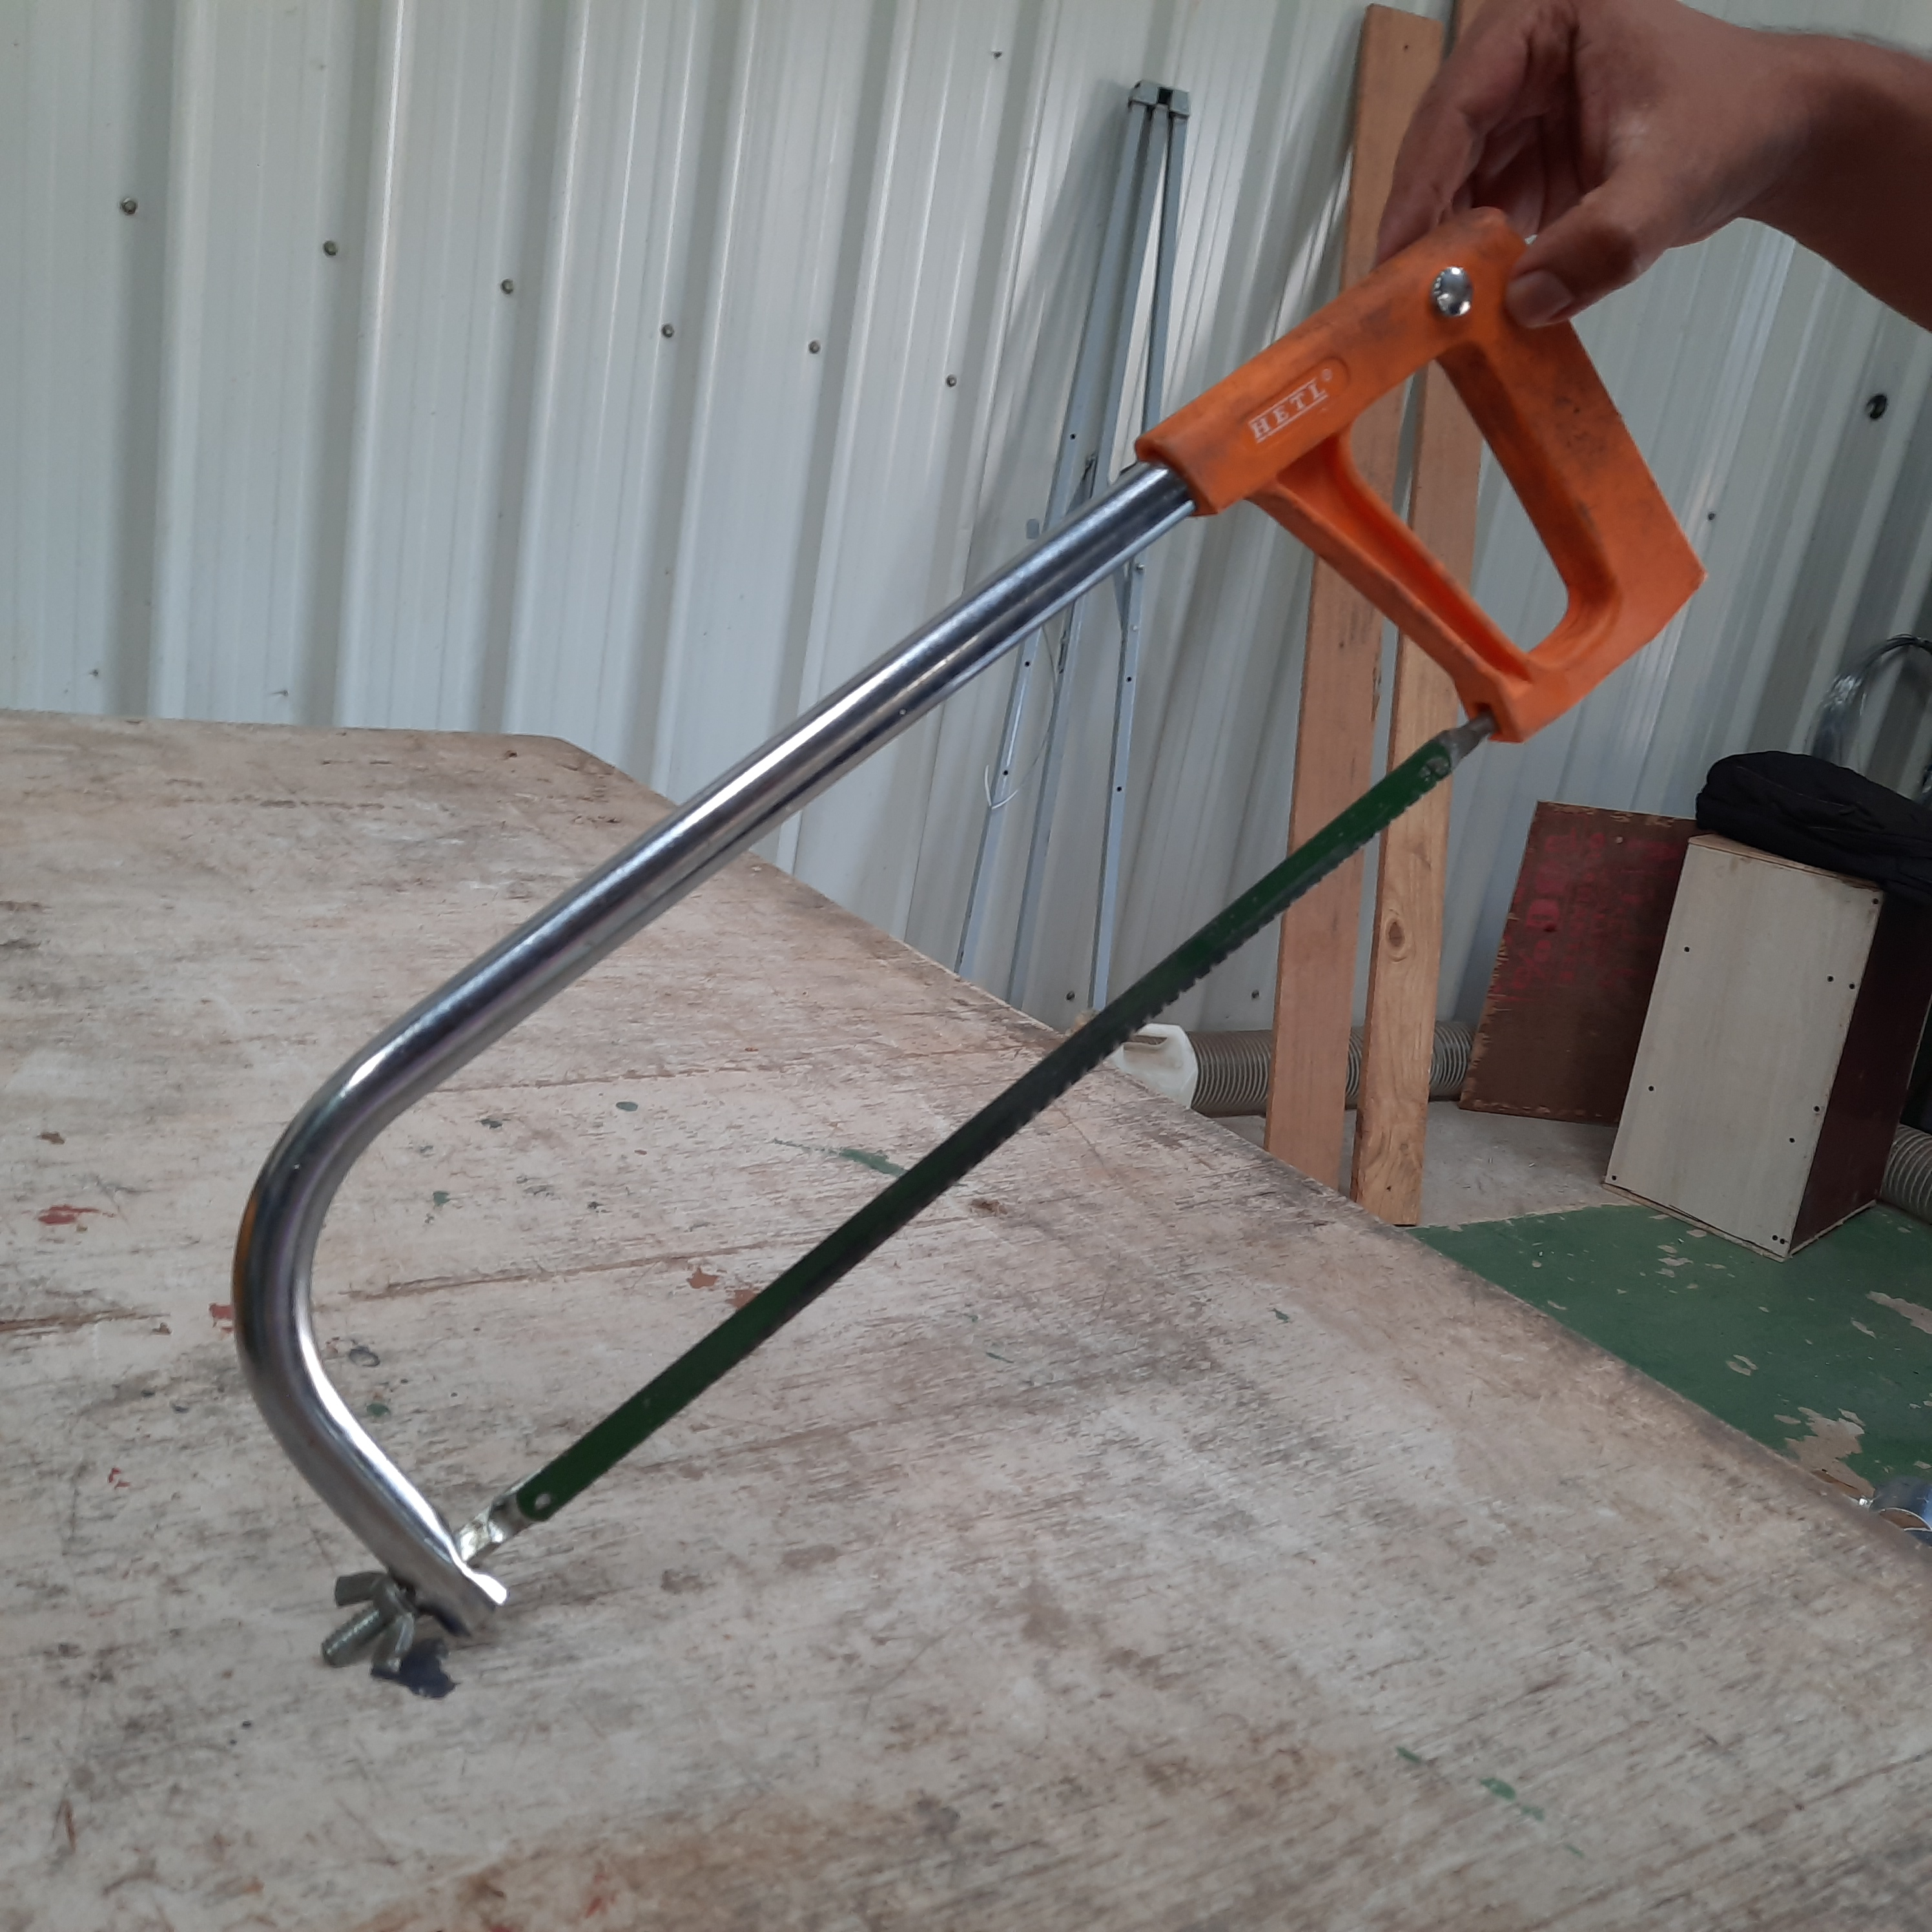Hexaframe: (211, 195, 1746, 1732)
